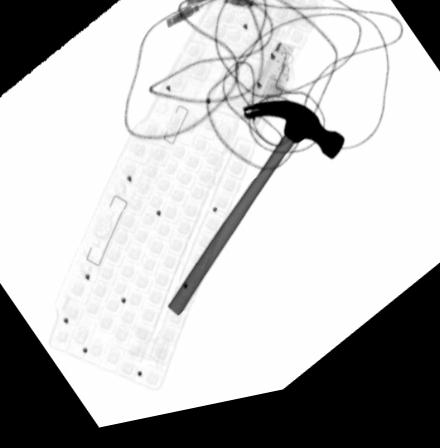Hammer: (164, 112, 343, 324)
